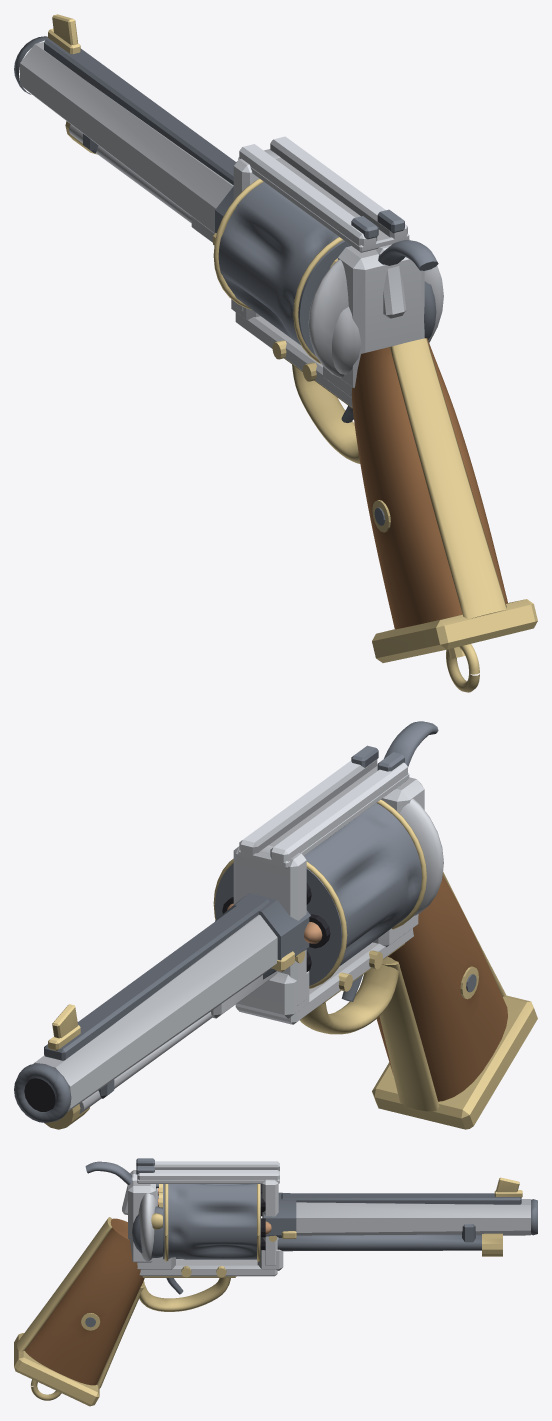
The model's file is revolver.glb.
3 renders of one model, top to bottom at view 1: azimuth 30°, elevation 25°; view 2: azimuth 150°, elevation 25°; view 3: azimuth 270°, elevation 25°, orthographic. The views are drawn at different scales.
Visible parts, largest first — view 1: Body, Cylinder, Hammer; view 2: Body, Cylinder, Hammer; view 3: Body, Cylinder, Hammer.
Boxes of the visible parts, bbox=[...] form: Body: bbox=[14, 14, 537, 692]; Cylinder: bbox=[213, 178, 350, 364]; Hammer: bbox=[375, 240, 438, 318]; Body: bbox=[14, 745, 537, 1129]; Cylinder: bbox=[213, 800, 426, 988]; Hammer: bbox=[384, 721, 438, 766]; Body: bbox=[14, 1158, 537, 1406]; Cylinder: bbox=[158, 1184, 271, 1261]; Hammer: bbox=[85, 1161, 158, 1214].
Bounding box in the file's own units: 0.077 × 0.2245 × 0.4486.
